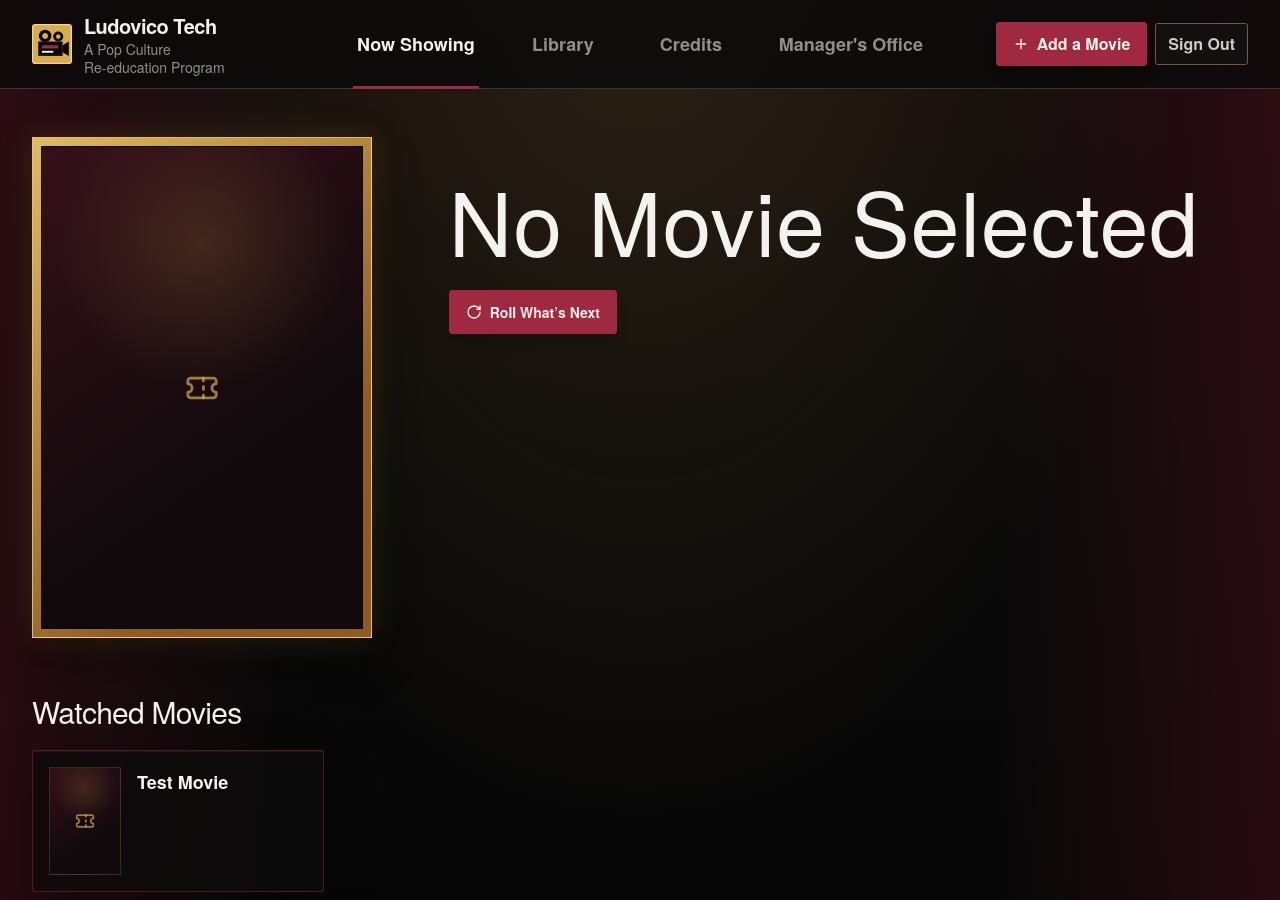
it: application authorization presentation › refreshes authentication and removes mutation controls after a 401
The width and height of the screenshot is (1280, 900).
Click the button "Roll What’s Next" at point(533, 312), box [449,290,617,334]
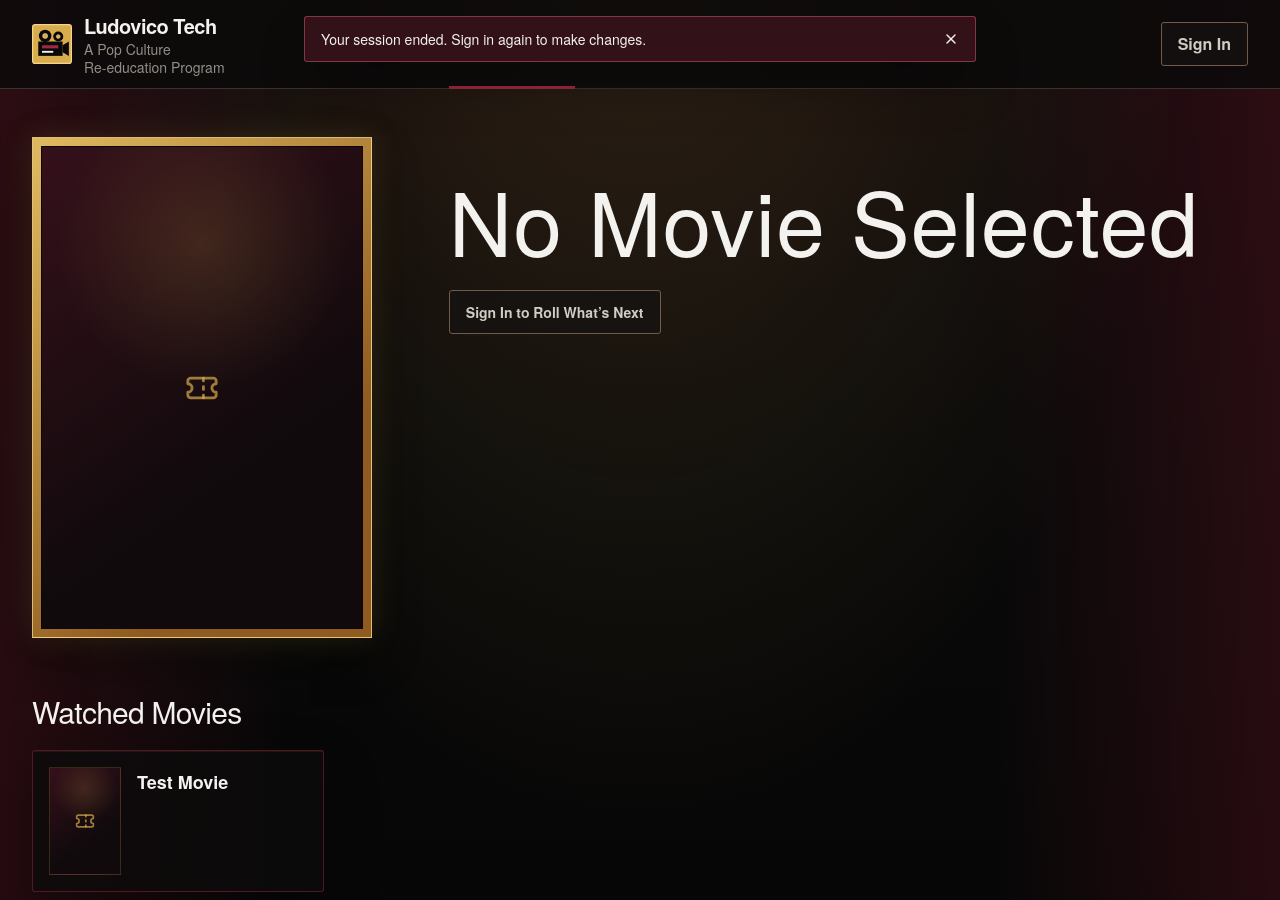
Result: the message reads "Your session ended. Sign in again to make changes." at [321,29,646,49]
Result: the button "Sign In" is shown at [1161,22,1248,66]
